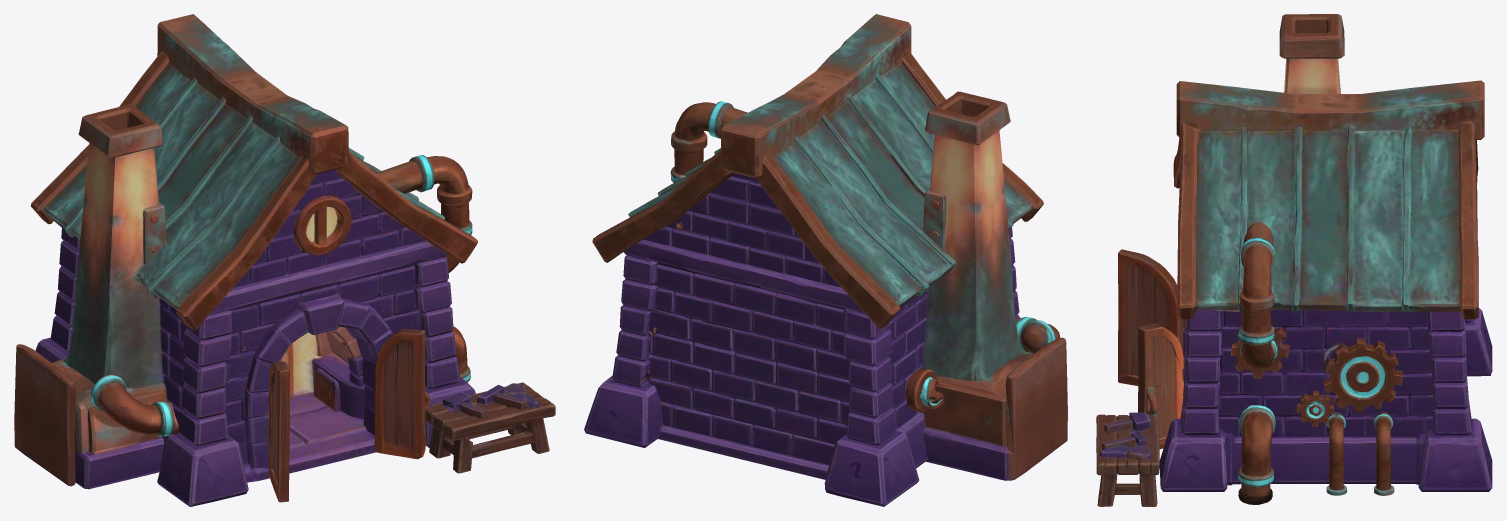
Rendered from copper-workshop.glb.
The picture shows the model from 3 angles, left to right: view 1: azimuth 30°, elevation 25°; view 2: azimuth 150°, elevation 25°; view 3: azimuth 270°, elevation 25°; orthographic projection.
Parts seen in each view (by area): view 1: output_unwrapped; view 2: output_unwrapped; view 3: output_unwrapped.
Part boxes in pixels (bbox=[...]): output_unwrapped: bbox=[14, 14, 555, 506]; output_unwrapped: bbox=[584, 14, 1067, 506]; output_unwrapped: bbox=[1096, 14, 1492, 506].
Bounding box in the file's own units: 1.9 × 1.51 × 1.63.
1 material, 1 textured.
